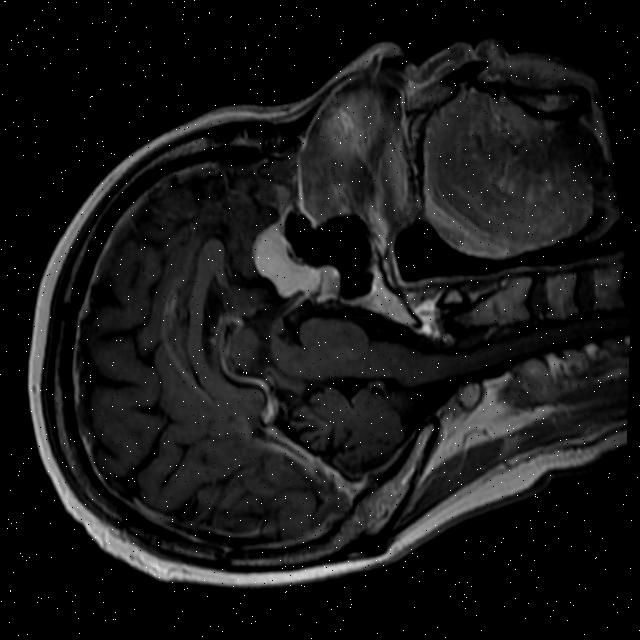Meningioma: (244, 211, 323, 305)
